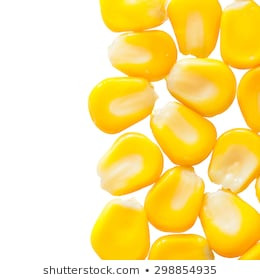corn: (150, 100, 218, 168), (87, 77, 158, 137), (98, 132, 164, 196), (143, 166, 205, 234), (200, 188, 260, 257), (106, 27, 178, 81), (167, 60, 236, 116)
